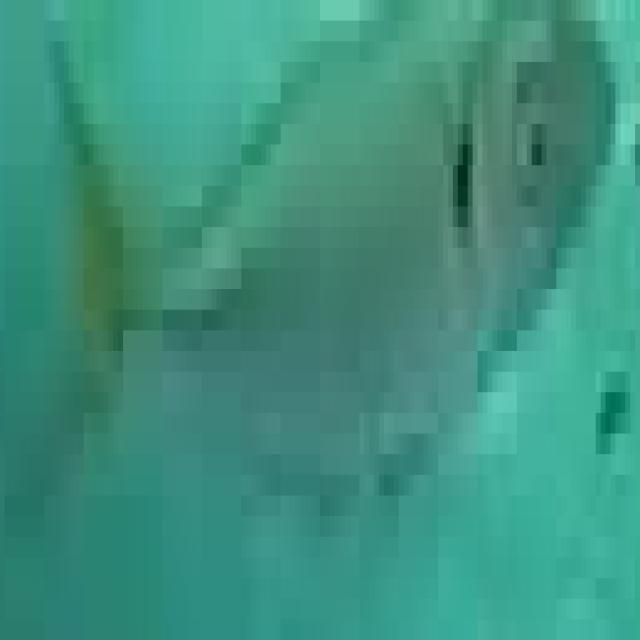fish: (0, 0, 635, 620)
